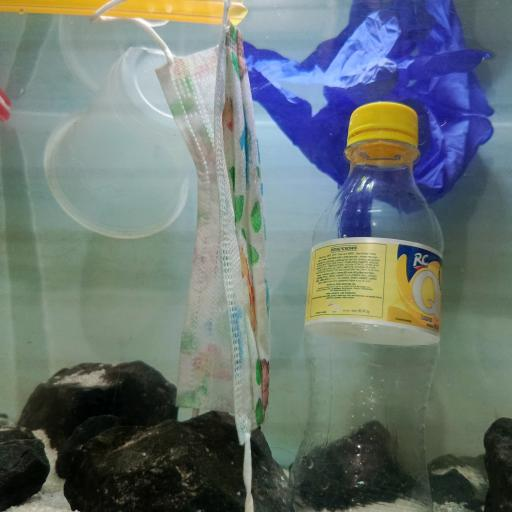bottle_cap: (348, 103, 419, 136)
glove: (236, 0, 494, 198)
mask: (150, 0, 273, 437)
plastic_bottle: (292, 102, 446, 512)
plastic_cup: (44, 47, 193, 240)
plastic_straw: (0, 0, 251, 28)
